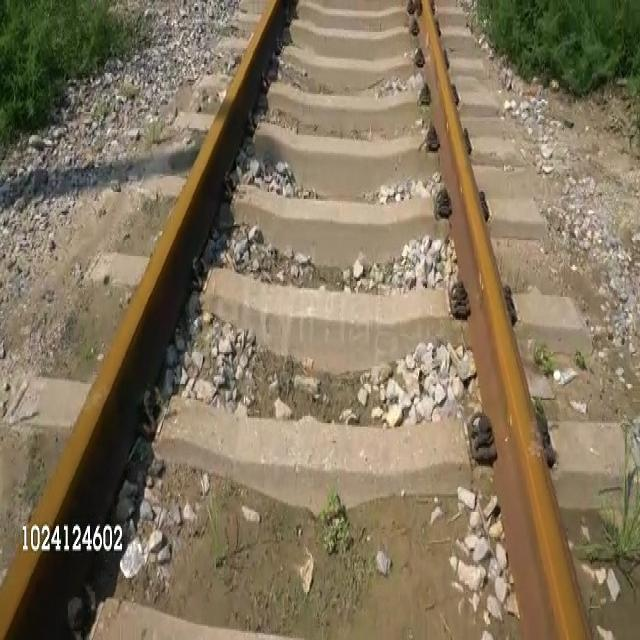Plant: (0, 0, 117, 145), (470, 0, 639, 95), (586, 427, 639, 561), (317, 490, 356, 551)
